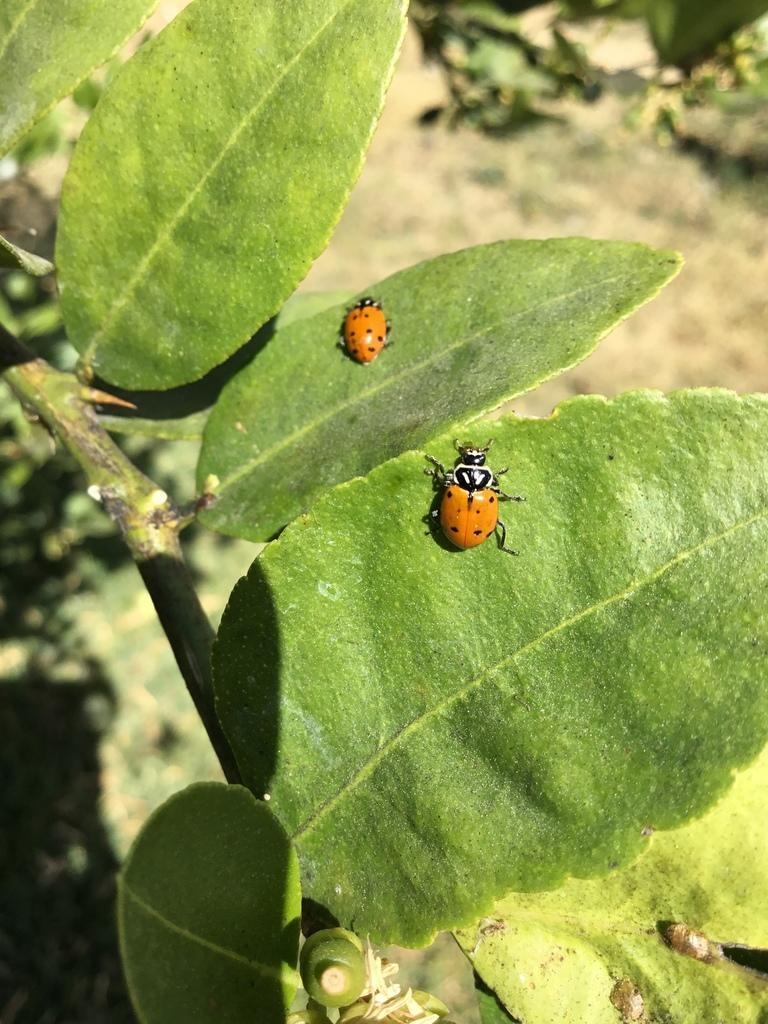ladybug: (423, 437, 531, 559), (341, 295, 396, 365)
